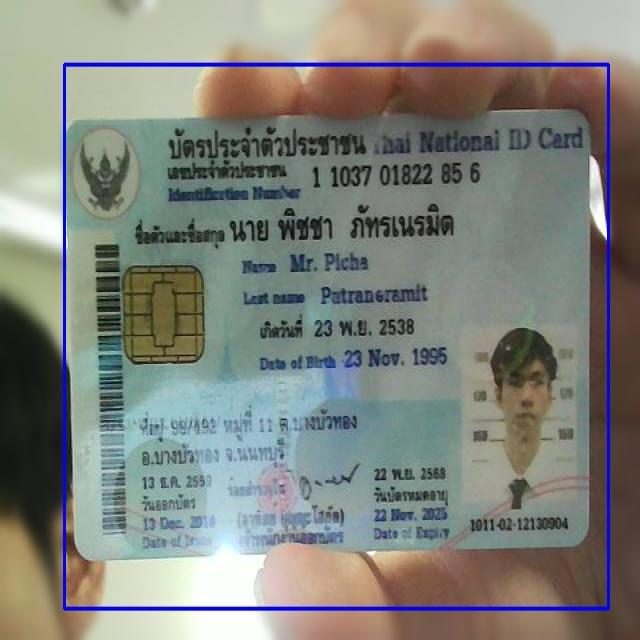Address_th: (130, 400, 372, 471)
Date_of_Birth: (341, 340, 454, 379)
Date_of_Expiry: (364, 502, 457, 527)
Date_of_Issue: (140, 512, 218, 534)
First_Name: (285, 245, 377, 281)
ID_Number: (309, 157, 488, 196)
Image: (466, 324, 577, 515)
Last_Name: (319, 281, 434, 309)
Thai_Name: (229, 200, 465, 248)
